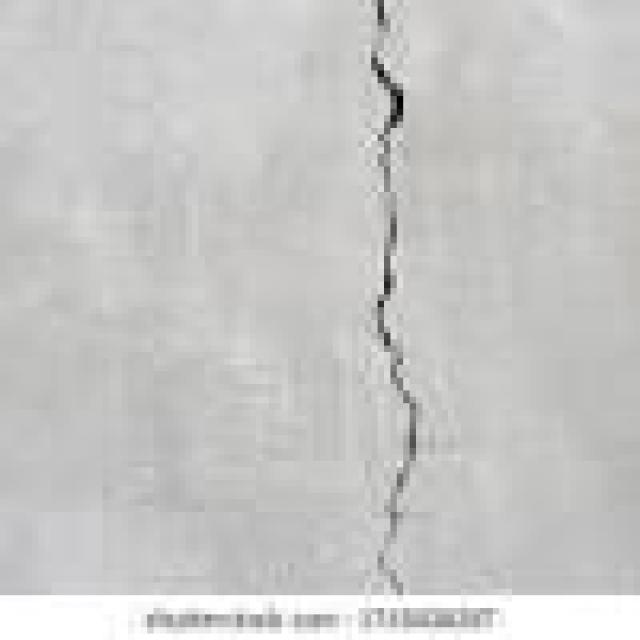Crack: (352, 0, 422, 589)
